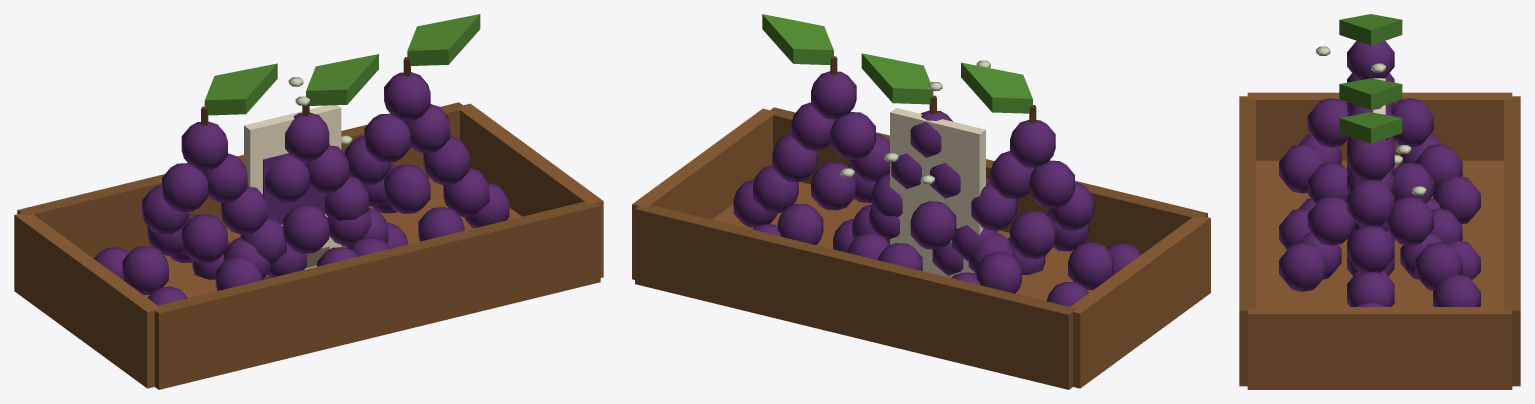
File: Fruit_Grape.fbx
The picture shows the model from 3 angles, left to right: view 1: azimuth 30°, elevation 25°; view 2: azimuth 150°, elevation 25°; view 3: azimuth 270°, elevation 25°; orthographic projection.
Visible parts, largest first — view 1: Fruit_Grape__Stack, Fruit_Grape, Fruit_Grape__Seed; view 2: Fruit_Grape__Stack, Fruit_Grape, Fruit_Grape__Seed, Fruit_Grape__Rotten; view 3: Fruit_Grape__Stack, Fruit_Grape, Fruit_Grape__Rotten.
Part boxes in pixels (<box>): Fruit_Grape__Stack: <box>14,14,603,389</box>; Fruit_Grape: <box>192,54,407,279</box>; Fruit_Grape__Seed: <box>244,105,341,277</box>; Fruit_Grape__Stack: <box>632,14,1210,389</box>; Fruit_Grape: <box>833,53,1045,274</box>; Fruit_Grape__Seed: <box>890,108,985,277</box>; Fruit_Grape__Rotten: <box>840,60,990,184</box>; Fruit_Grape__Stack: <box>1239,14,1520,389</box>; Fruit_Grape: <box>1279,78,1480,288</box>; Fruit_Grape__Rotten: <box>1316,46,1426,195</box>.
Size of the model in its own units: 0.2499 by 0.122 by 0.1343.
